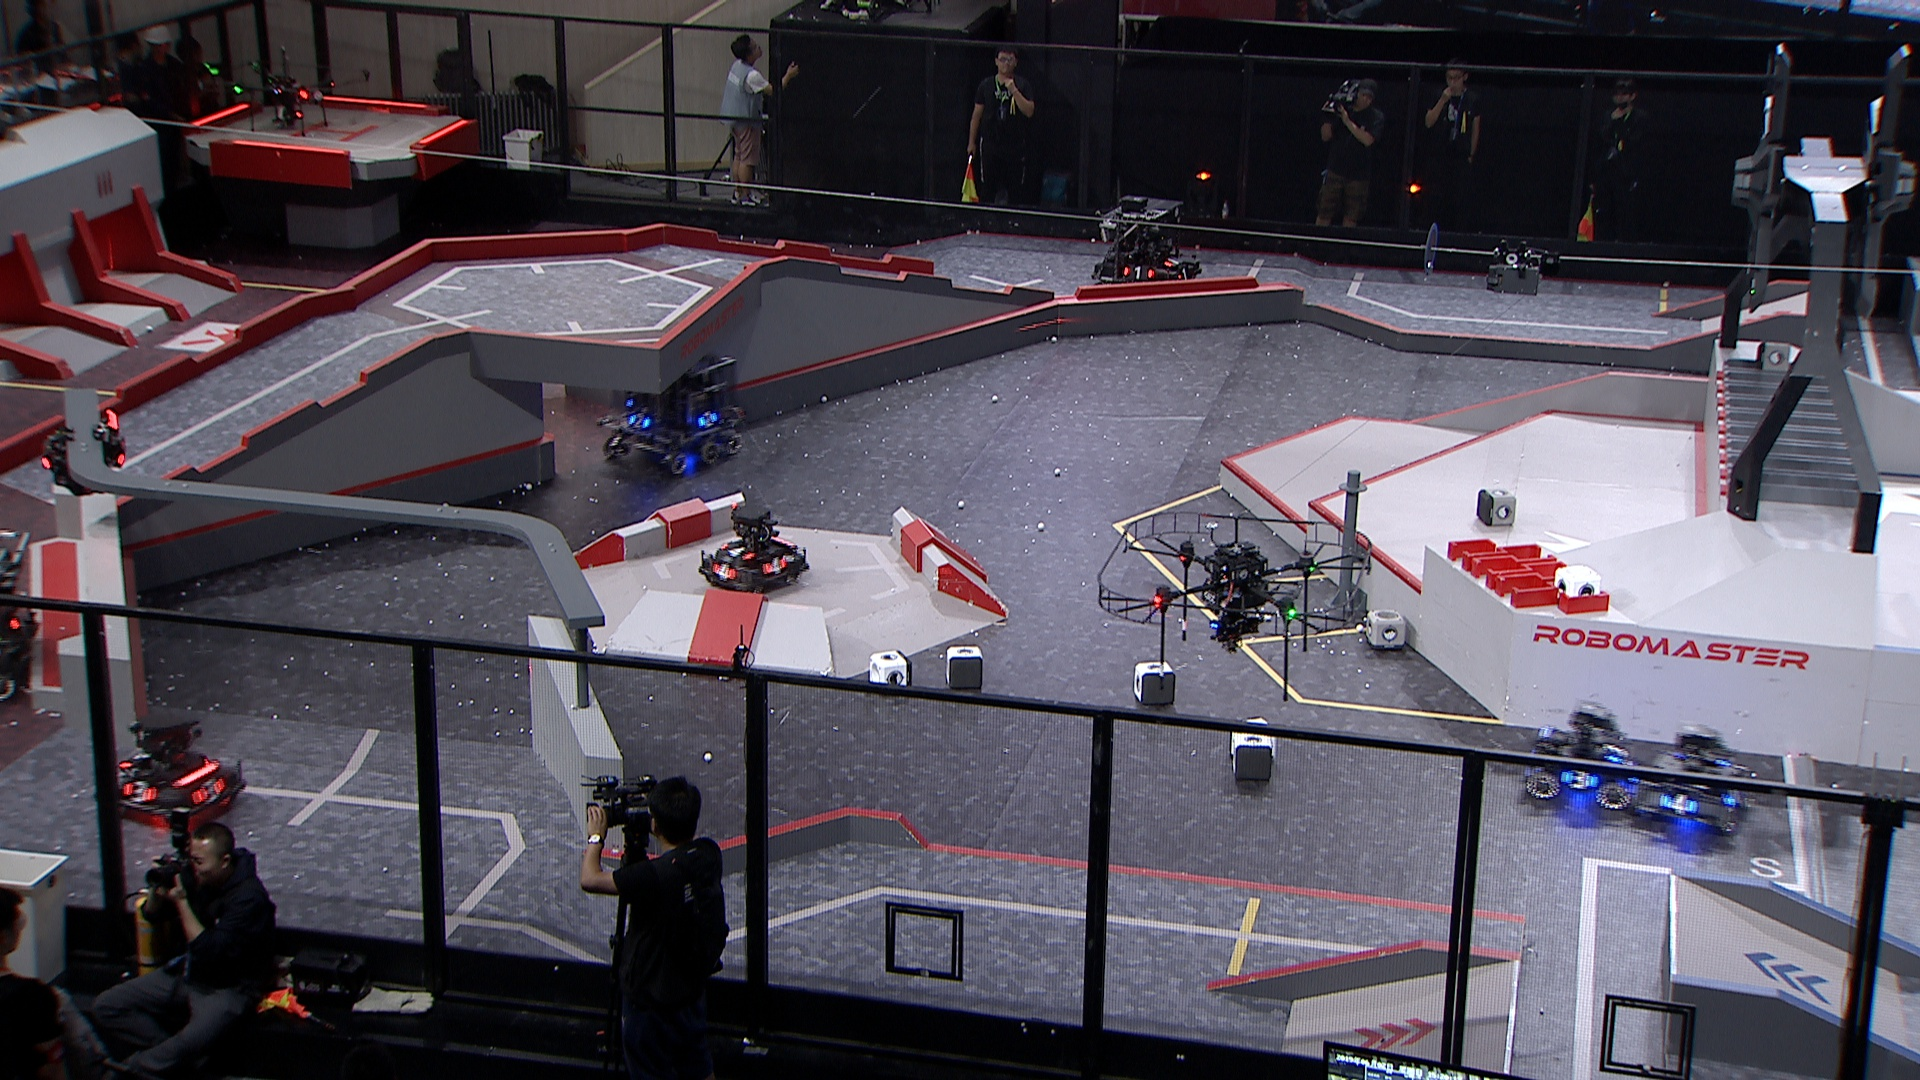armor: (191, 775, 225, 804), (1560, 769, 1598, 793), (1659, 793, 1698, 815), (121, 782, 160, 804), (1604, 741, 1633, 765), (719, 541, 752, 560), (760, 556, 789, 578), (116, 752, 152, 769), (709, 562, 737, 583), (1120, 266, 1156, 281), (626, 414, 651, 433), (1724, 787, 1745, 808), (698, 409, 717, 429), (1174, 266, 1193, 282), (1162, 256, 1183, 270)
car: (90, 711, 251, 829), (597, 351, 744, 475), (1634, 725, 1755, 836), (1523, 700, 1643, 811), (695, 501, 811, 597), (1092, 195, 1205, 287)
watcher: (38, 407, 129, 496)
